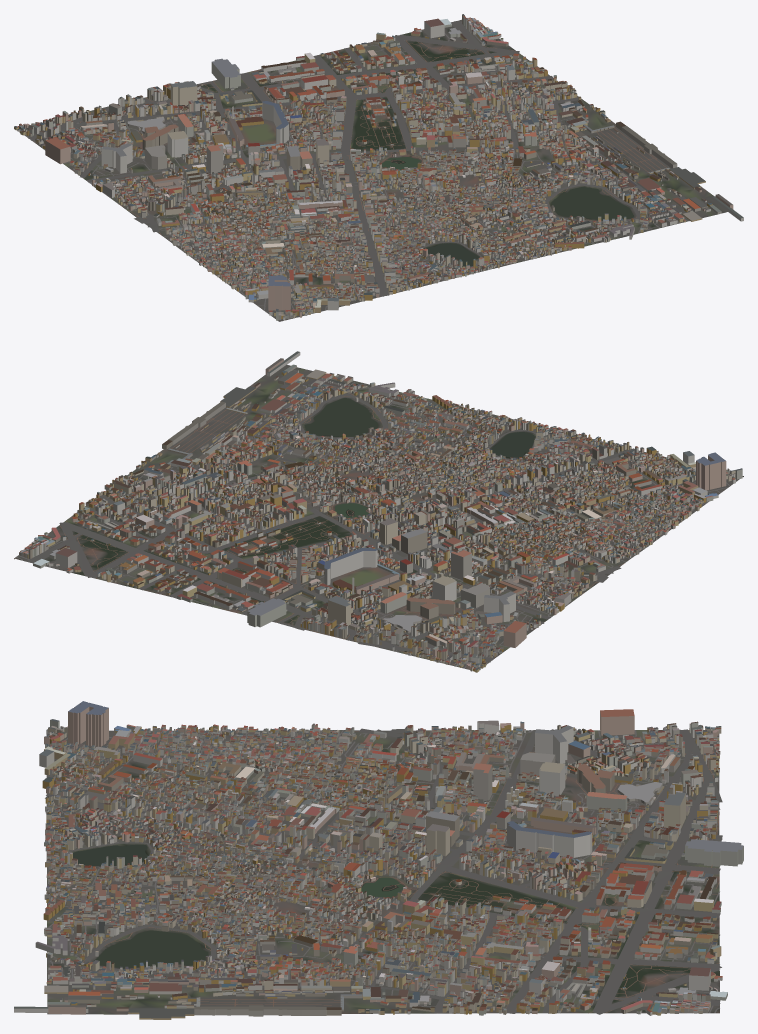
3 views of the same model, one above another, from view 1: azimuth 30°, elevation 25°; view 2: azimuth 150°, elevation 25°; view 3: azimuth 270°, elevation 25° (orthographic). The views are drawn at different scales.
Parts seen in each view (by area): view 1: buildings, ground, roads, water; view 2: buildings, ground, roads, water; view 3: buildings, ground, roads, water.
Boxes of the visible parts, x1,y1,x2,y2 form: buildings: (14,14,743,320); ground: (25,17,727,321); roads: (24,20,687,319); water: (376,39,634,266); buildings: (19,351,742,672); ground: (14,364,743,669); roads: (16,379,730,668); water: (273,398,535,539); buildings: (14,701,743,1019); ground: (46,730,719,1014); roads: (45,728,722,1014); water: (73,844,645,1011).
Size of the model in its own units: 1439 by 76 by 1521.
